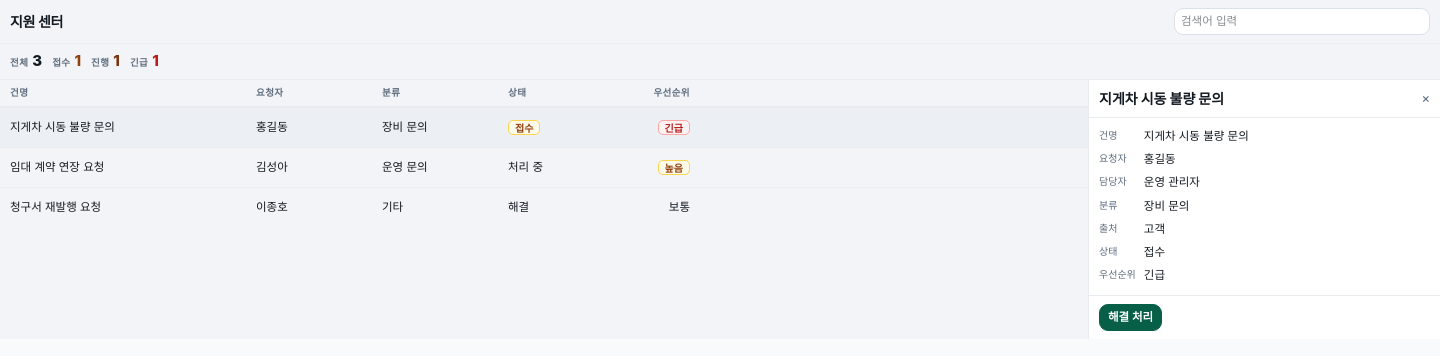
Test: ModuleScreen — action and drag cleanup › remounts detail actions when the open row changes so pending state does not bleed
Click the button "해결 처리". click: (1130, 317)
box: left=1099, top=304, right=1162, bottom=331
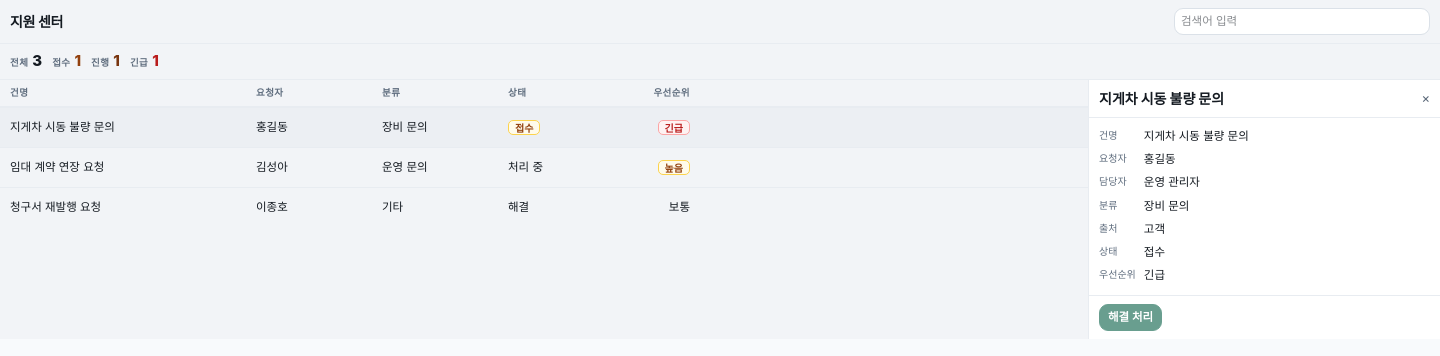
Expected: the button "해결 처리" is disabled, left=1099, top=304, right=1162, bottom=331
Click the row "임대 계약 연장 요청 김성아 운영 문의 처리 중 높음". click: (544, 167)
box: left=0, top=147, right=1088, bottom=187
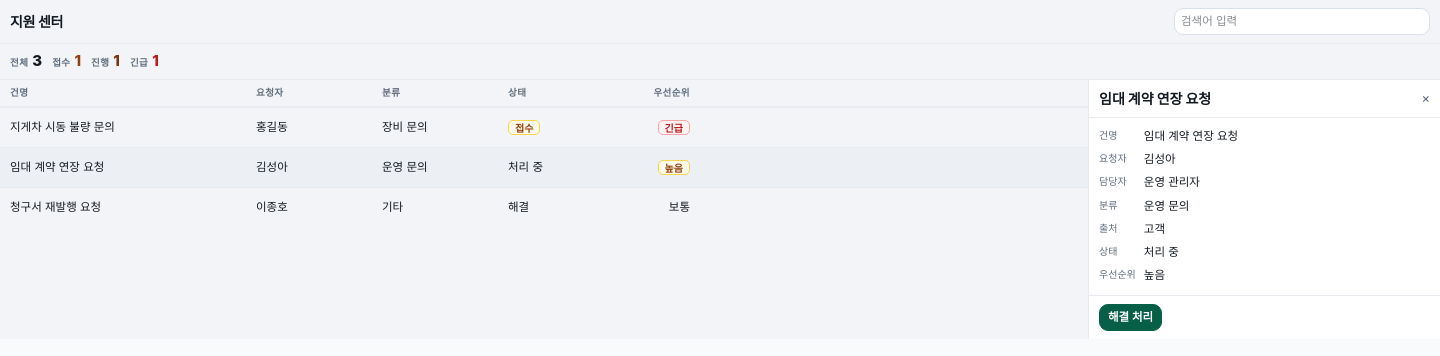
Expected: the element labelled "임대 계약 연장 요청" is shown, left=1088, top=80, right=1439, bottom=339
Expected: the button "해결 처리" is enabled, left=1099, top=304, right=1162, bottom=331
